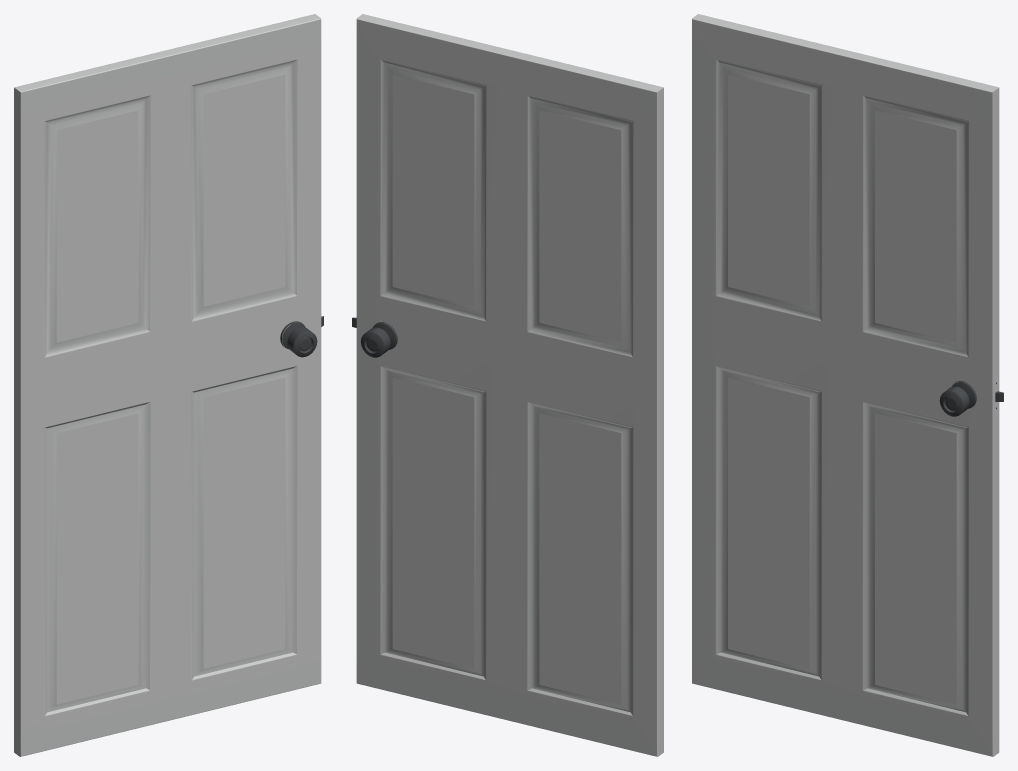
File: Puerta2.obj
The picture shows the model from 3 angles, left to right: view 1: azimuth 30°, elevation 25°; view 2: azimuth 150°, elevation 25°; view 3: azimuth 330°, elevation 25°; orthographic projection.
Visible parts, largest first — view 1: Puerta:Ctrl_Door_01DoorRig_01DoorLatch_01Ctrl_ManualLatch_01; view 2: Puerta:Ctrl_Door_01DoorRig_01DoorLatch_01Ctrl_ManualLatch_01; view 3: Puerta:Ctrl_Door_01DoorRig_01DoorLatch_01Ctrl_ManualLatch_01.
Boxes of the visible parts, left/top/right/bottom form: Puerta:Ctrl_Door_01DoorRig_01DoorLatch_01Ctrl_ManualLatch_01: left=14, top=14, right=323, bottom=756; Puerta:Ctrl_Door_01DoorRig_01DoorLatch_01Ctrl_ManualLatch_01: left=352, top=14, right=663, bottom=756; Puerta:Ctrl_Door_01DoorRig_01DoorLatch_01Ctrl_ManualLatch_01: left=692, top=14, right=1003, bottom=756.
Bounding box in the file's own units: 3.11 × 6.43 × 0.5868.
2 materials, 2 textured.
